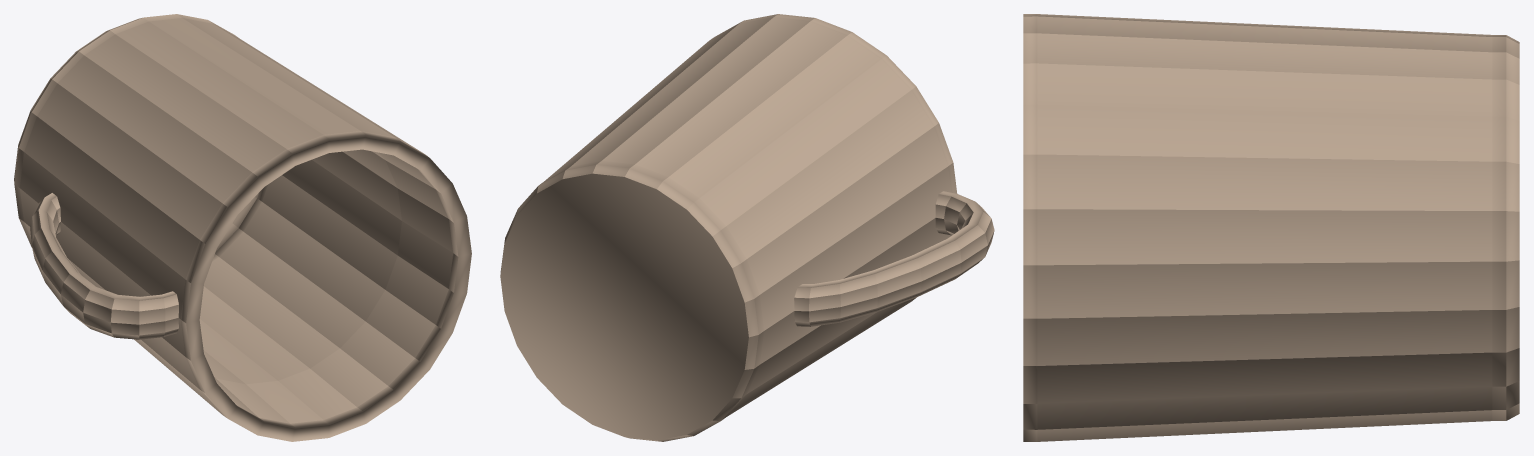
File: MeshMug_2_0_GeomSubset_0.obj
3 renders of one model, left to right at view 1: azimuth 30°, elevation 25°; view 2: azimuth 150°, elevation 25°; view 3: azimuth 270°, elevation 25°, orthographic. The views are drawn at different scales.
Visible parts, largest first — view 1: MeshMug_2_0_GeomSubset_0; view 2: MeshMug_2_0_GeomSubset_0; view 3: MeshMug_2_0_GeomSubset_0.
Part boxes in pixels (left/top/right/bottom): MeshMug_2_0_GeomSubset_0: left=14, top=14, right=471, bottom=441; MeshMug_2_0_GeomSubset_0: left=500, top=14, right=994, bottom=441; MeshMug_2_0_GeomSubset_0: left=1023, top=14, right=1519, bottom=441.
Bounding box in the file's own units: 0.1099 × 0.0892 × 0.103.
